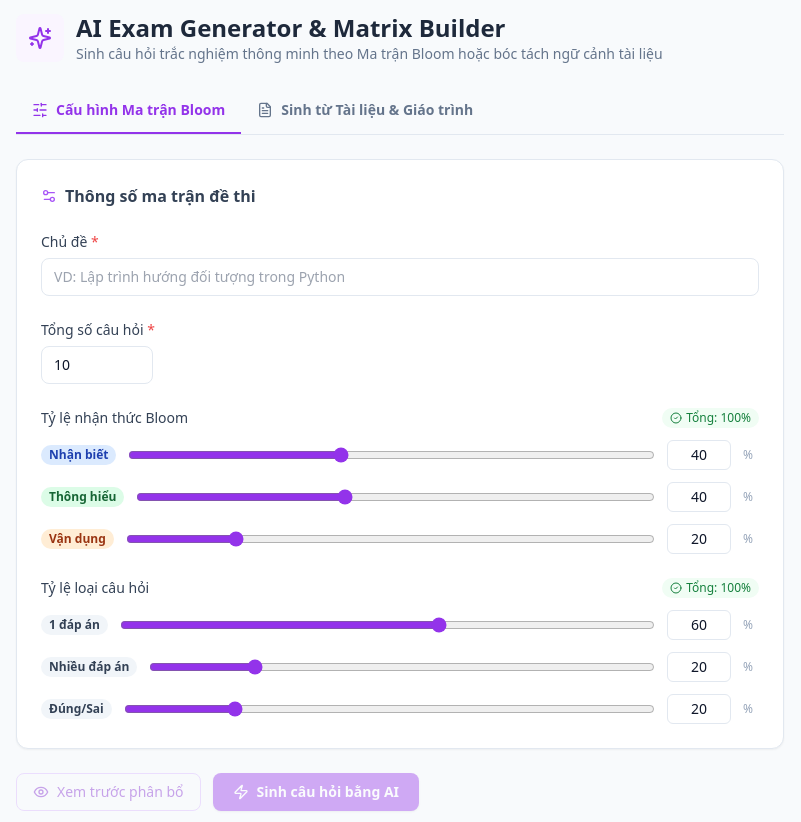
Test: AiGenPage — Config Step › enables Generate button when topic is filled and ratios sum to 100
Step 1. Type "Python OOP" into the field with placeholder "VD: Lập trình hướng đối tượng trong Python" → (400, 277), box 41,258 -> 759,296
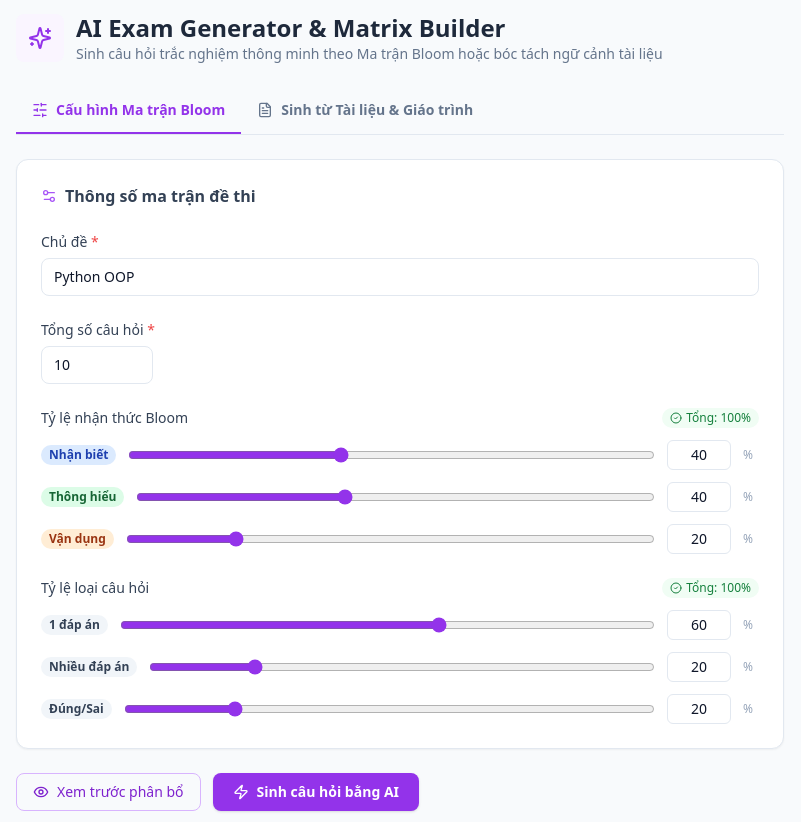
expect the button "Sinh câu hỏi bằng AI" is enabled: met, box 213,773 -> 419,811
